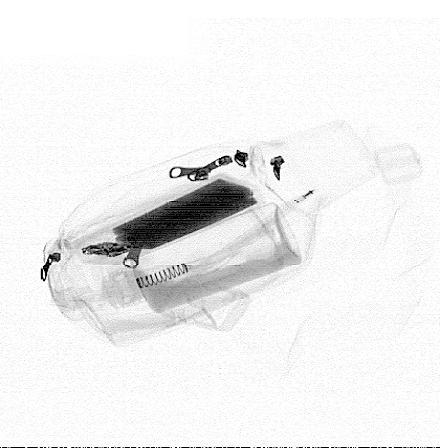Powerbank: (72, 173, 268, 266)
